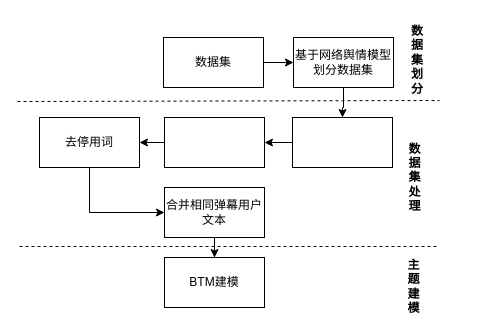
Image size: 497x333. Some labels were removed from this diagram. The box of each missing label's shape, as (x1, y1, x2, y2) in pixels:
分词: (164, 116, 264, 168)
繁简转换 大小写转换: (292, 116, 392, 168)
